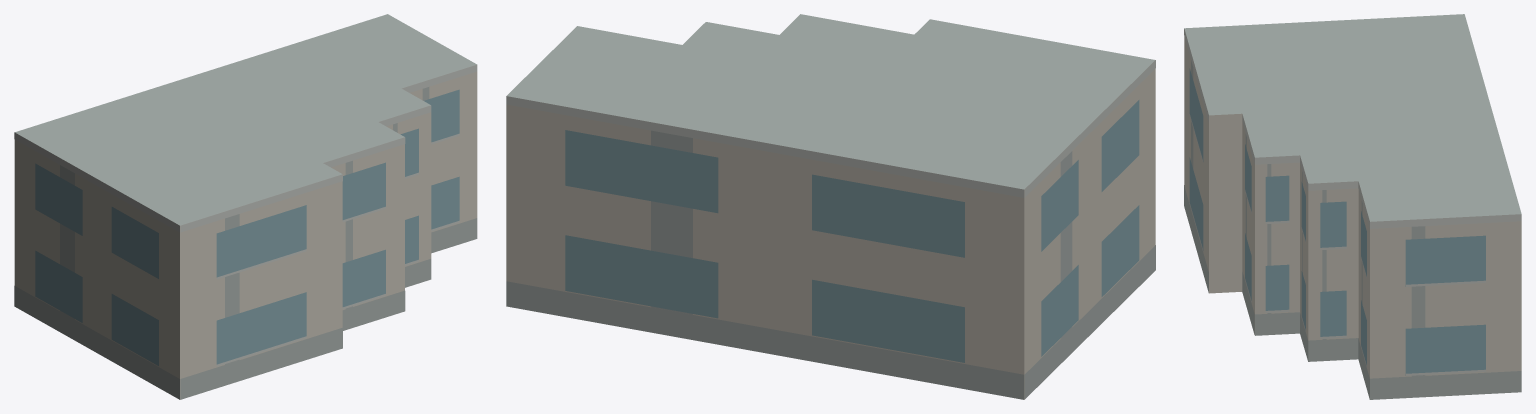
Rendered from residential-dd005e5f-1e25-4511-b973-04eb6f8fbacf.glb.
3 views of the same model, side by side, from view 1: azimuth 30°, elevation 25°; view 2: azimuth 150°, elevation 25°; view 3: azimuth 270°, elevation 25° (orthographic). The views are drawn at different scales.
Parts seen in each view (by area): view 1: residential-dd005e5f-1e25-4511-b973-04eb6f8fbacf.tmp; view 2: residential-dd005e5f-1e25-4511-b973-04eb6f8fbacf.tmp; view 3: residential-dd005e5f-1e25-4511-b973-04eb6f8fbacf.tmp.
Boxes of the visible parts, x1,y1,x2,y2 form: residential-dd005e5f-1e25-4511-b973-04eb6f8fbacf.tmp: [14, 14, 477, 399]; residential-dd005e5f-1e25-4511-b973-04eb6f8fbacf.tmp: [506, 14, 1155, 399]; residential-dd005e5f-1e25-4511-b973-04eb6f8fbacf.tmp: [1184, 14, 1521, 399].
Bounding box in the file's own units: 15.28 × 6.1 × 10.49.
